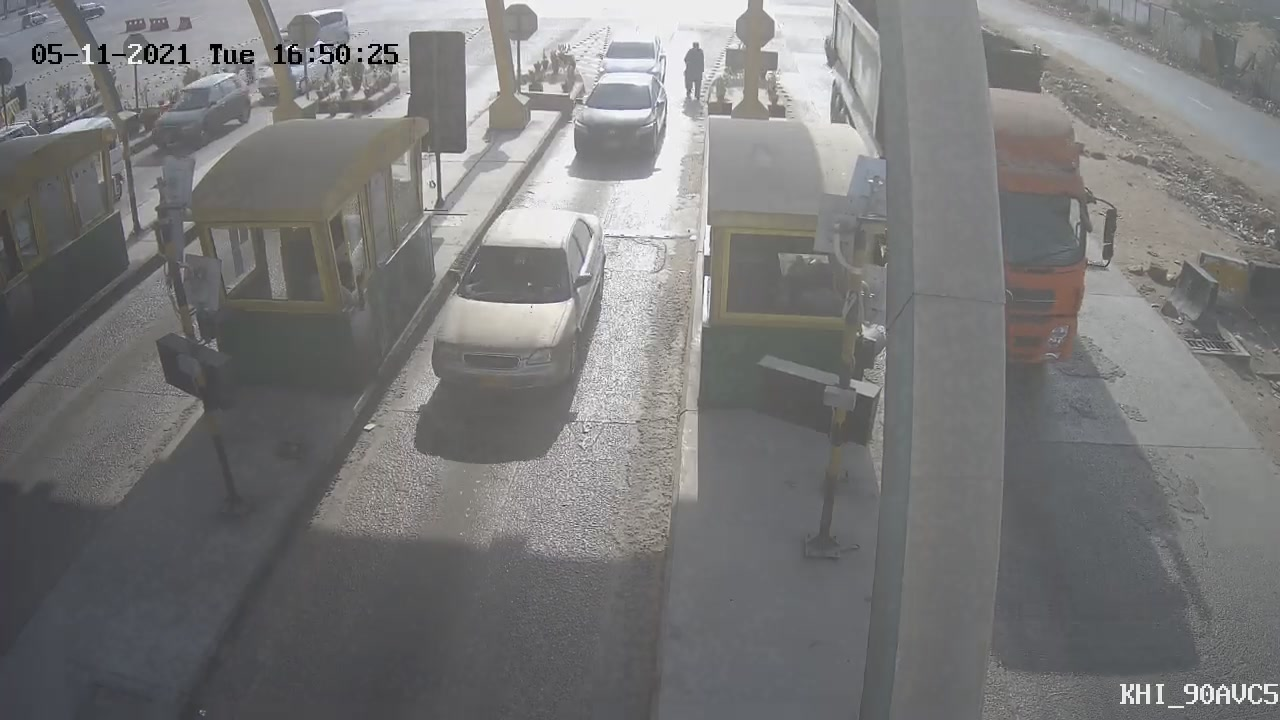F1: (407, 195, 630, 409), (552, 59, 685, 178)
